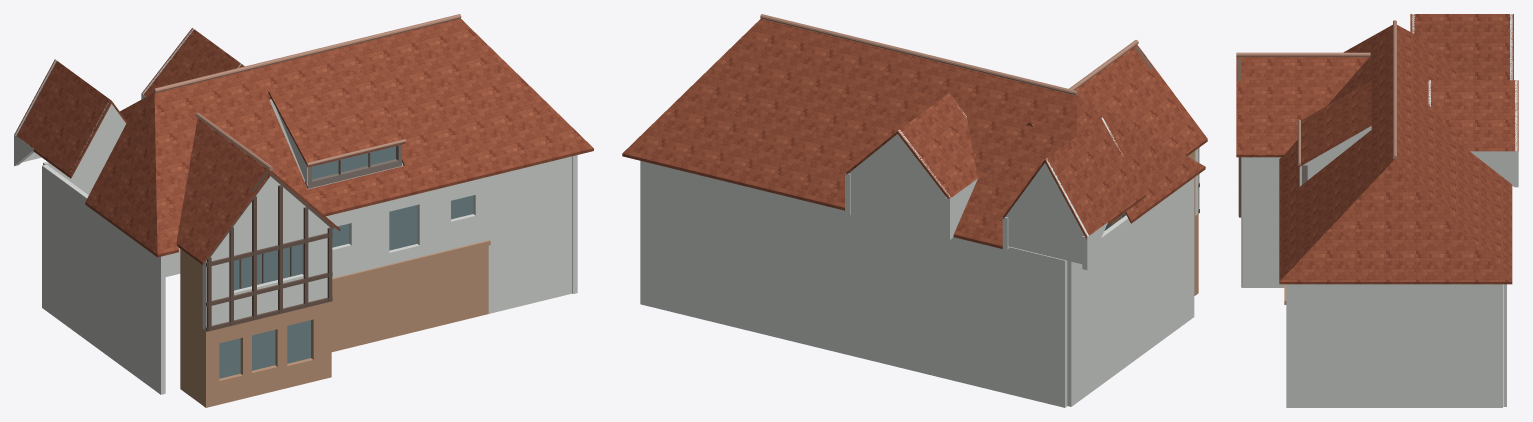
File: changning-xinhua-231-rong-garden-roof-web.glb
The picture shows the model from 3 angles, left to right: view 1: azimuth 30°, elevation 25°; view 2: azimuth 150°, elevation 25°; view 3: azimuth 270°, elevation 25°; orthographic projection. The views are drawn at different scales.
Parts seen in each view (by area): view 1: 新华路231号住宅花园侧木构山墙与交叉瓦顶; view 2: 新华路231号住宅花园侧木构山墙与交叉瓦顶; view 3: 新华路231号住宅花园侧木构山墙与交叉瓦顶.
Boxes of the visible parts, box(x1,y1,x2,y2) form: 新华路231号住宅花园侧木构山墙与交叉瓦顶: box(14, 14, 593, 407); 新华路231号住宅花园侧木构山墙与交叉瓦顶: box(622, 14, 1207, 407); 新华路231号住宅花园侧木构山墙与交叉瓦顶: box(1236, 14, 1518, 407).
Size of the model in its own units: 20.45 by 10.81 by 12.21.
Materials: 7 (1 with a texture image).
